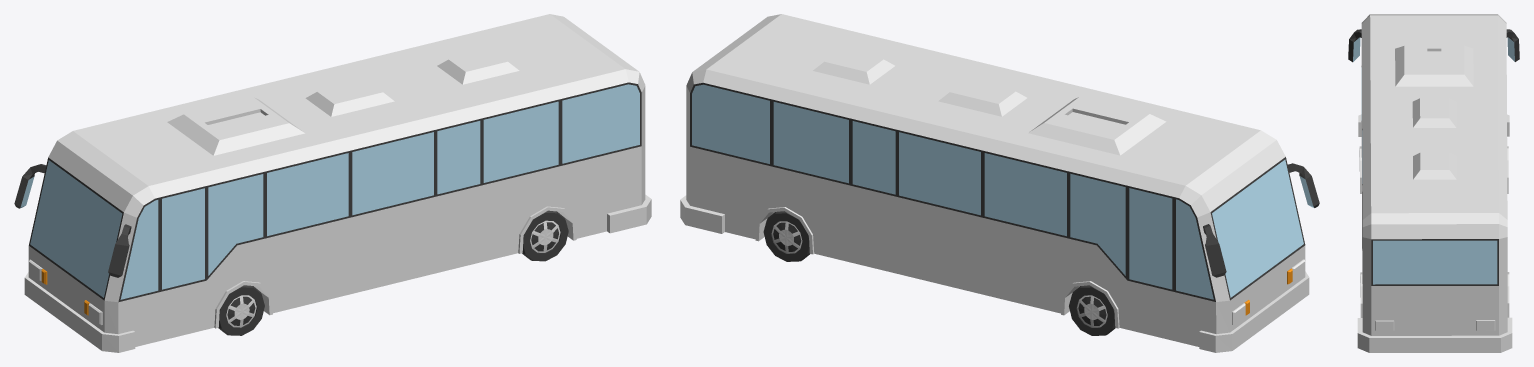
The model's file is bus_lev3.glb.
3 views of the same model, side by side, from view 1: azimuth 30°, elevation 25°; view 2: azimuth 150°, elevation 25°; view 3: azimuth 270°, elevation 25° (orthographic). The views are drawn at different scales.
Visible parts, largest first — view 1: bus_lev3; view 2: bus_lev3; view 3: bus_lev3.
Part boxes in pixels (x1,y1,x2,y2): bus_lev3: (14, 14, 651, 352); bus_lev3: (680, 14, 1319, 352); bus_lev3: (1348, 14, 1519, 352).
Bounding box in the file's own units: 10.27 × 3.18 × 3.26.
1 material, 1 textured.
